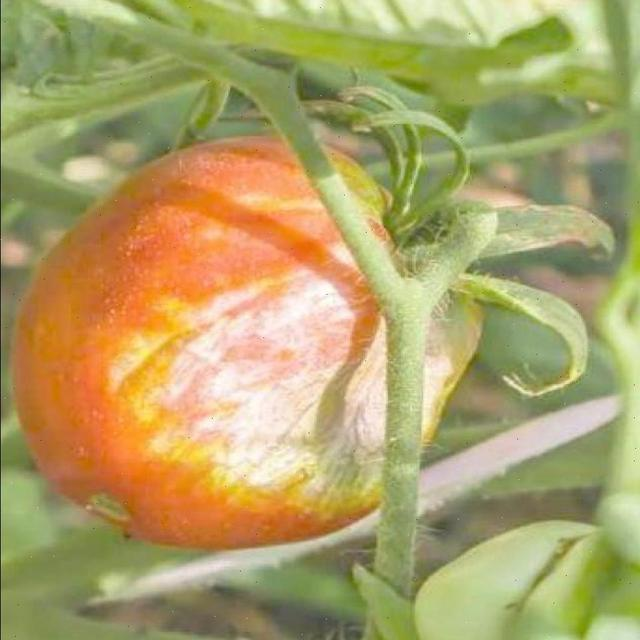Sunscald Fruit: (78, 160, 299, 352)
